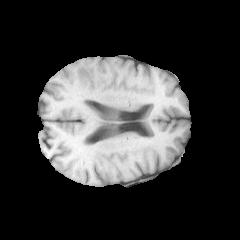glioma: (77, 65, 100, 102)
